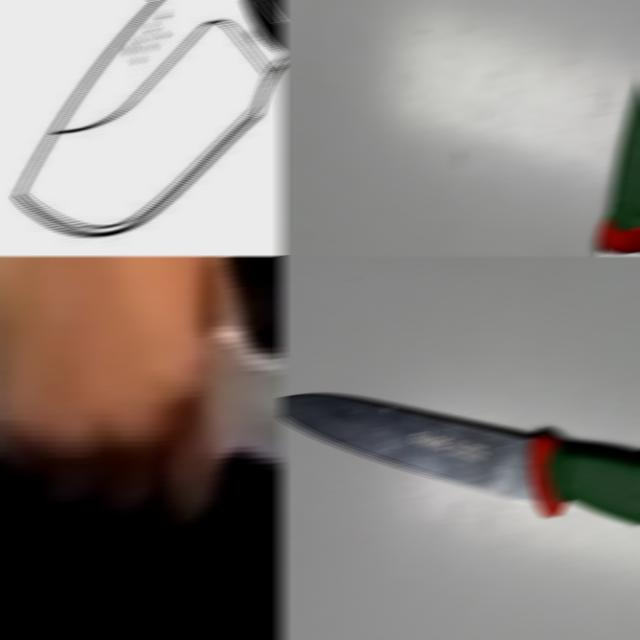Knife: (15, 0, 284, 236), (278, 393, 640, 524)
Knife_Handle: (0, 265, 284, 504)
